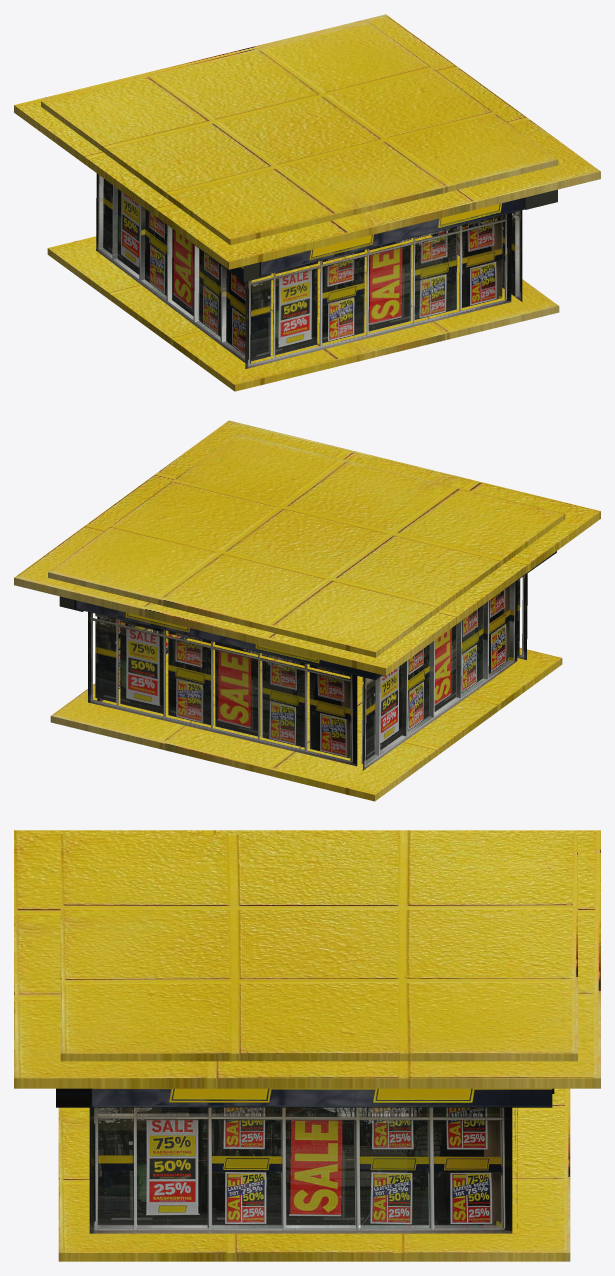
The model's file is shop.gltf.
3 renders of one model, top to bottom at view 1: azimuth 30°, elevation 25°; view 2: azimuth 150°, elevation 25°; view 3: azimuth 270°, elevation 25°, orthographic. The views are drawn at different scales.
Parts seen in each view (by area): view 1: Plane.001, Shops0010_download600.003, Plane, Plane.002, Shops0010_download600.001; view 2: Plane.001, Shops0010_download600.001, Plane, Plane.002, Shops0010_download600.003; view 3: Plane.001, Shops0010_download600.001, Plane, Plane.002.
Part boxes in pixels (box(x1,y1,x2,y2)): Plane.001: box(41, 21, 558, 245); Shops0010_download600.003: box(96, 173, 524, 368); Plane: box(14, 14, 600, 269); Plane.002: box(47, 235, 559, 391); Shops0010_download600.001: box(431, 189, 557, 301); Plane.001: box(48, 433, 565, 657); Shops0010_download600.001: box(59, 596, 382, 766); Plane: box(14, 420, 600, 675); Plane.002: box(50, 638, 562, 801); Shops0010_download600.003: box(361, 551, 556, 770); Plane.001: box(60, 835, 577, 1061); Shops0010_download600.001: box(56, 1088, 554, 1233); Plane: box(14, 830, 600, 1088); Plane.002: box(58, 1088, 570, 1261).
Bounding box in the file's own units: 2.99 × 1.17 × 2.99.
Materials: 2 (2 with a texture image).
